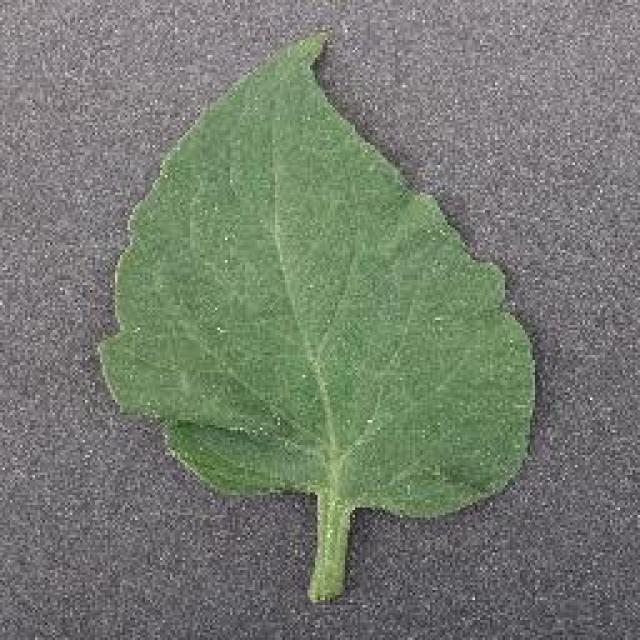Tomato___healthy: (95, 29, 538, 603)
